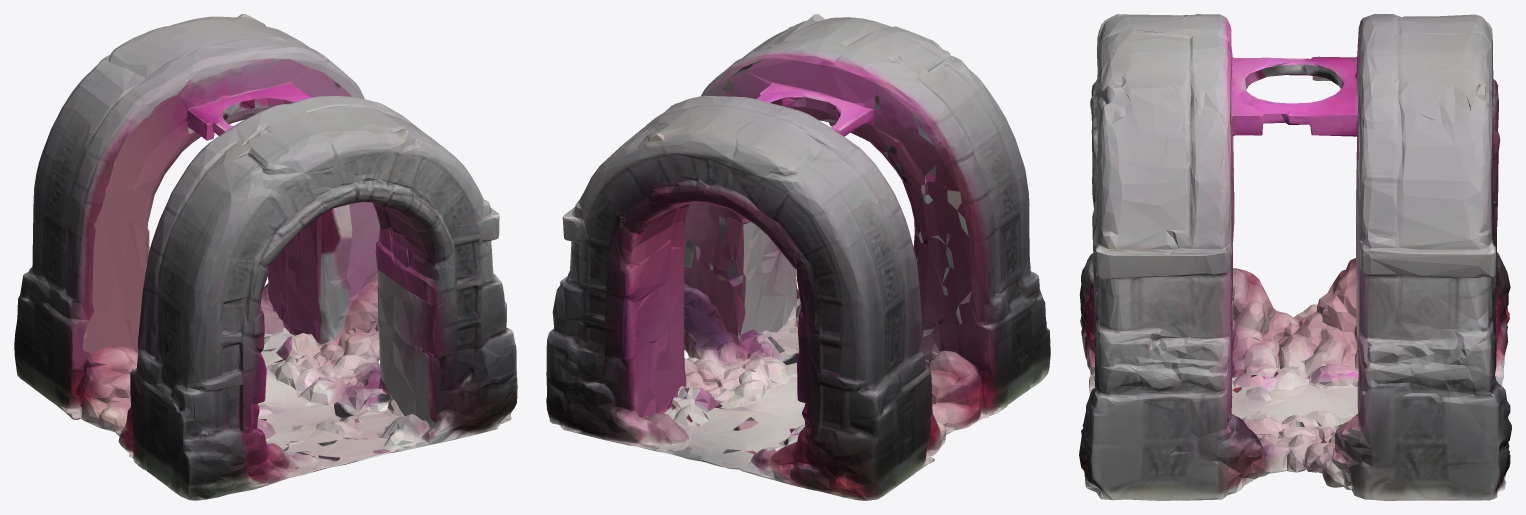
File: lower-root-arch-generated-2026-04-26T02-38-26-370Z.low.glb
3 renders of one model, left to right at view 1: azimuth 30°, elevation 25°; view 2: azimuth 150°, elevation 25°; view 3: azimuth 270°, elevation 25°, orthographic. The views are drawn at different scales.
Visible parts, largest first — view 1: temp_mesh.ply; view 2: temp_mesh.ply; view 3: temp_mesh.ply.
Boxes of the visible parts, bbox=[...] form: temp_mesh.ply: bbox=[14, 14, 517, 500]; temp_mesh.ply: bbox=[546, 14, 1050, 500]; temp_mesh.ply: bbox=[1079, 14, 1511, 500].
Bounding box in the file's own units: 1.97 × 1.86 × 1.95.
Materials: 1 (1 with a texture image).
